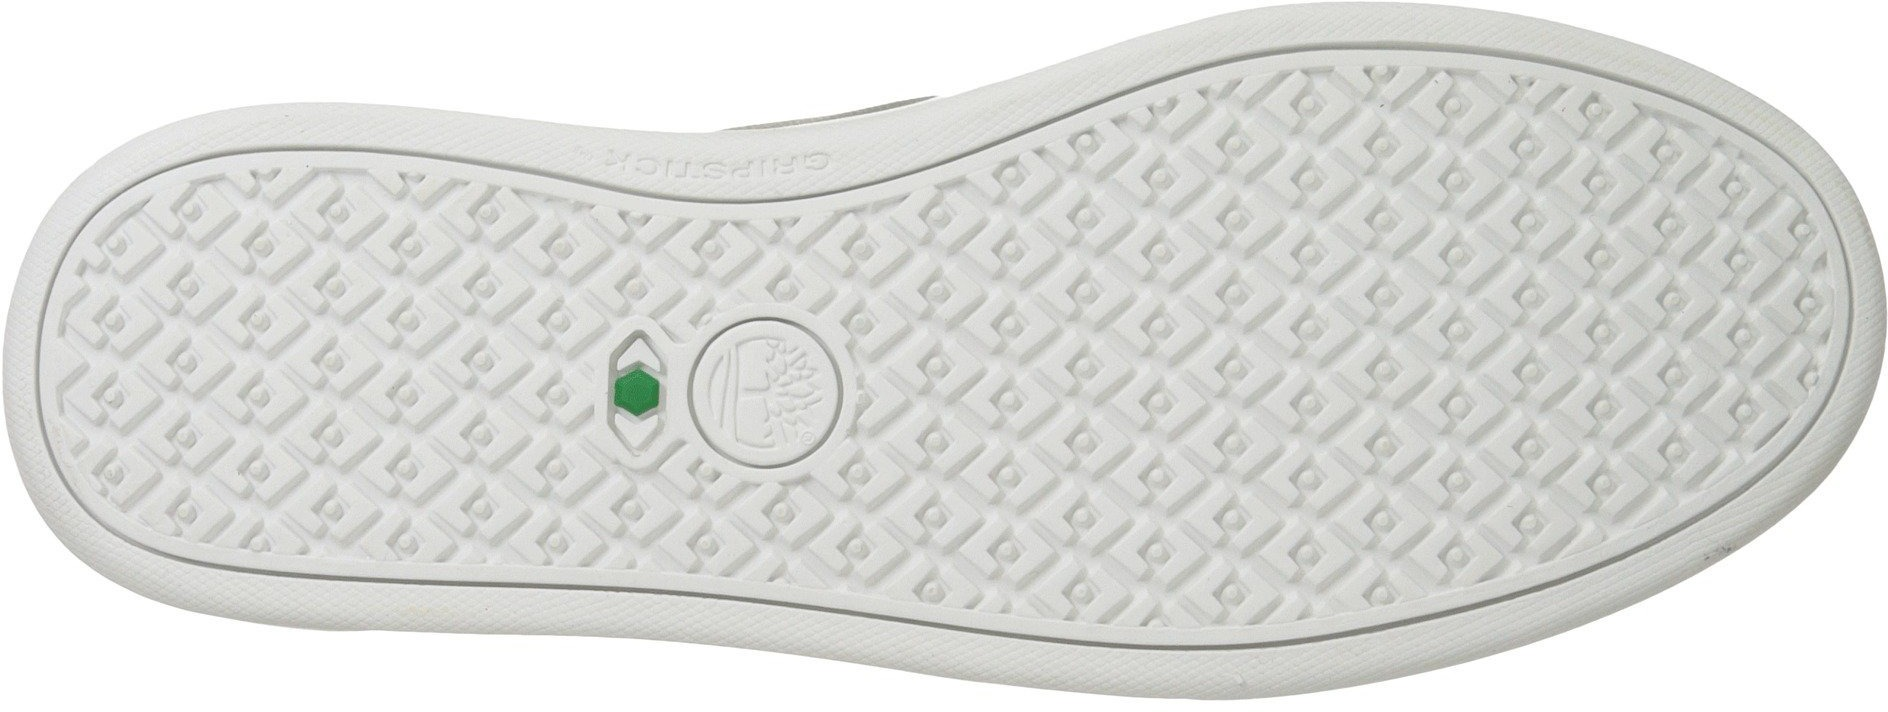chevron: (883, 183, 1306, 589), (1321, 95, 1718, 471), (144, 186, 519, 532)
circle: (679, 299, 852, 476)
exclude: (549, 0, 1036, 146)
